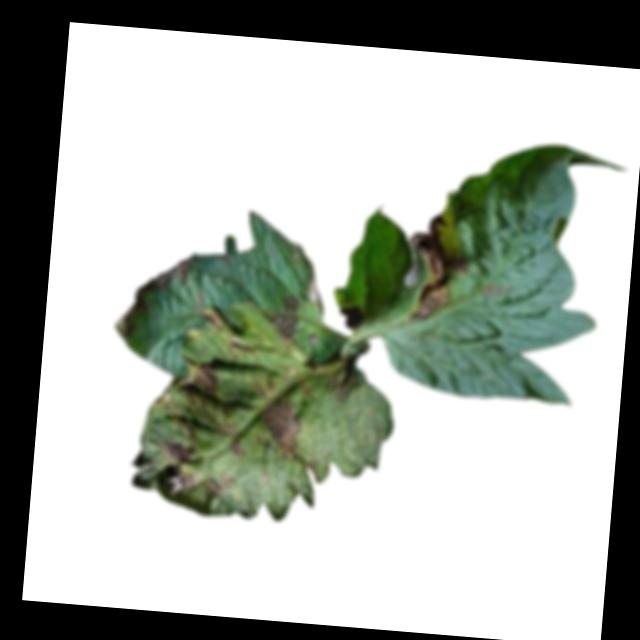Early_blight: (404, 210, 475, 329), (246, 378, 308, 463), (154, 419, 207, 499), (176, 359, 228, 414), (153, 251, 197, 294), (267, 295, 301, 344), (329, 360, 360, 404), (206, 469, 233, 501), (479, 283, 514, 298)
